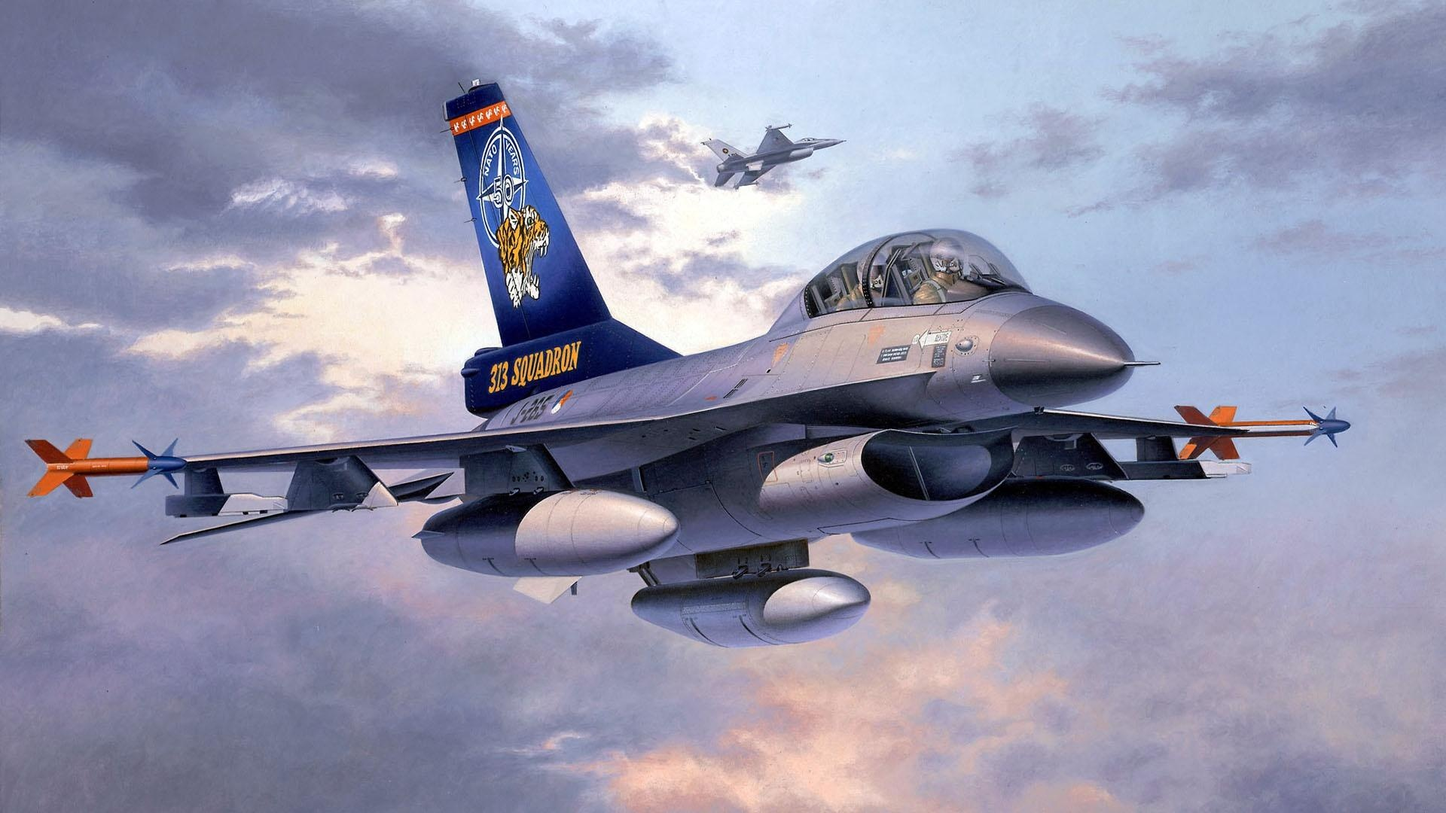aircraft: (31, 81, 1398, 644)
